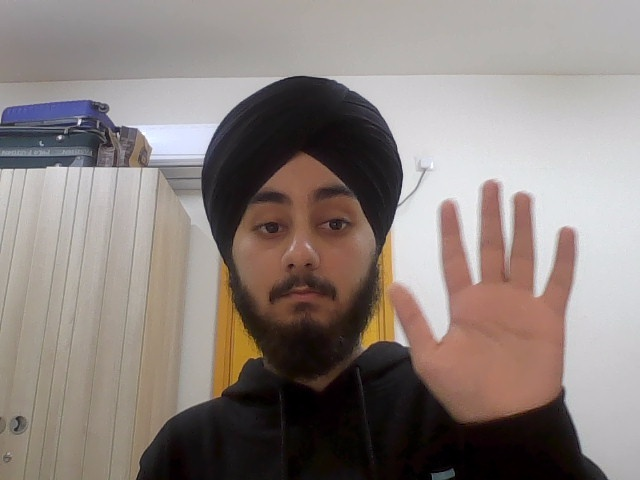Hello: (386, 180, 579, 419)
